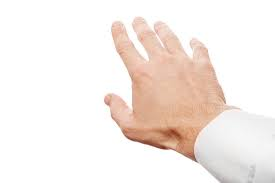hand: (84, 9, 241, 159)
